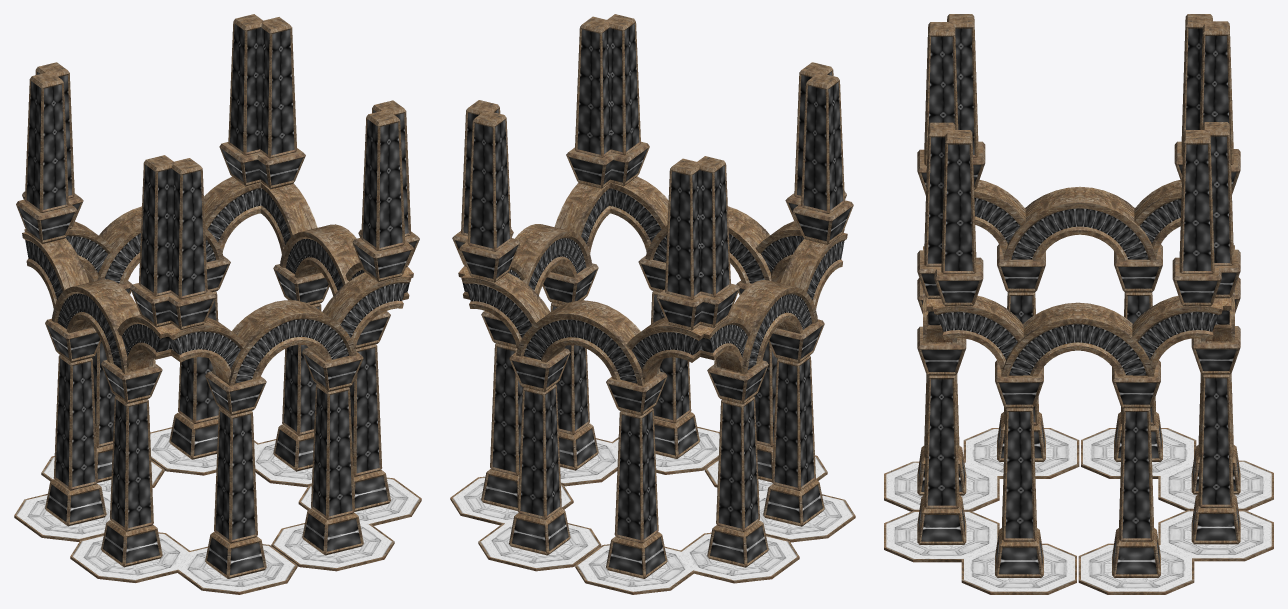
Rendered from column5.FBX.
3 views of the same model, side by side, from view 1: azimuth 30°, elevation 25°; view 2: azimuth 150°, elevation 25°; view 3: azimuth 270°, elevation 25° (orthographic). The views are drawn at different scales.
Parts seen in each view (by area): view 1: Box025; view 2: Box025; view 3: Box025.
Boxes of the visible parts, x1,y1,x2,y2 form: Box025: (14,14,421,594); Box025: (450,14,855,594); Box025: (884,14,1273,594).
Bounding box in the file's own units: 355 × 439 × 355.
